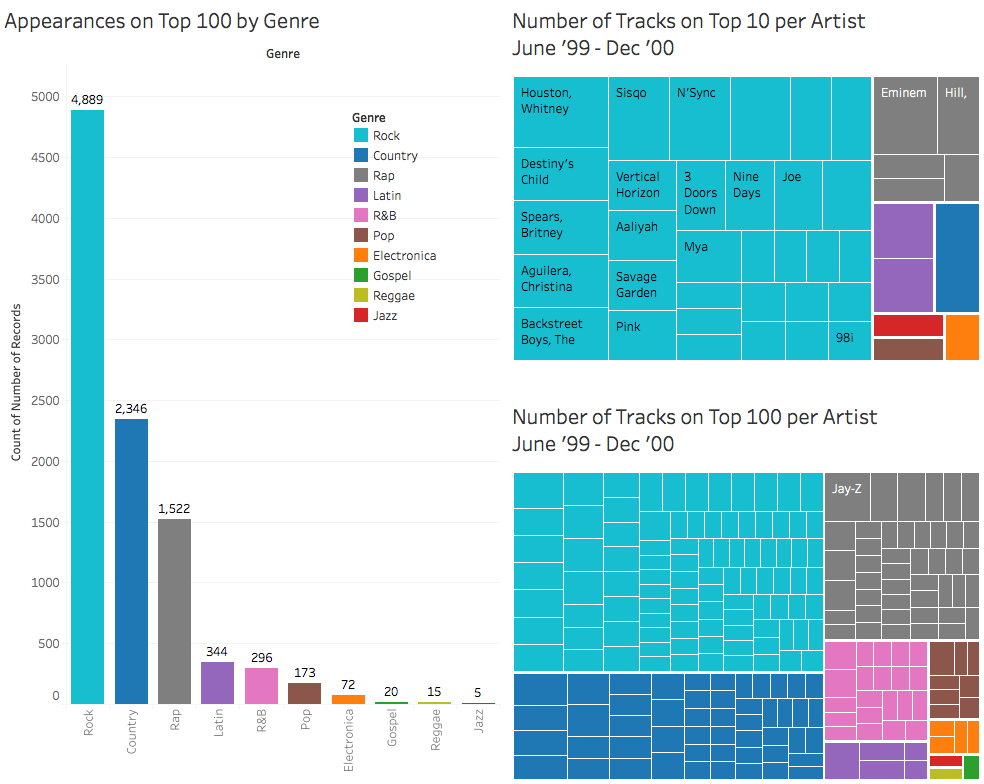

This screenshot's page, from the dashboard's own definition file:
{"tool":"tableau","page":{"name":"Dashboard 1","canvas":[1000,800],"ordinal":0},"visuals":[{"type":"worksheet","title":"Genre Appearances","mark":"Automatic","rows":["Number of Records"],"cols":["genre"],"box":[0,0,512,800]},{"type":"worksheet","title":"No. Tracks by Artist 10","mark":"Automatic","box":[512,0,488,400]},{"type":"legend","title":"Genre Appearances","param":"[federated.14dqt320wvd05v12ablff1f6xf9m].[none:genre:nk]","box":[359,115,140,218]},{"type":"worksheet","title":"No. Tracks by Genre","mark":"Automatic","box":[512,400,488,400]}]}

Visuals, with their boxes in screenshot pixels (x1, y1, x2, y2), scaled from the page's 1000x800 canvas onto the 984x784 screenshot:
"Genre Appearances" worksheet: <box>0,0,504,783</box>
"No. Tracks by Artist 10" worksheet: <box>504,0,983,392</box>
"Genre Appearances" legend: <box>353,113,491,326</box>
"No. Tracks by Genre" worksheet: <box>504,392,983,783</box>
